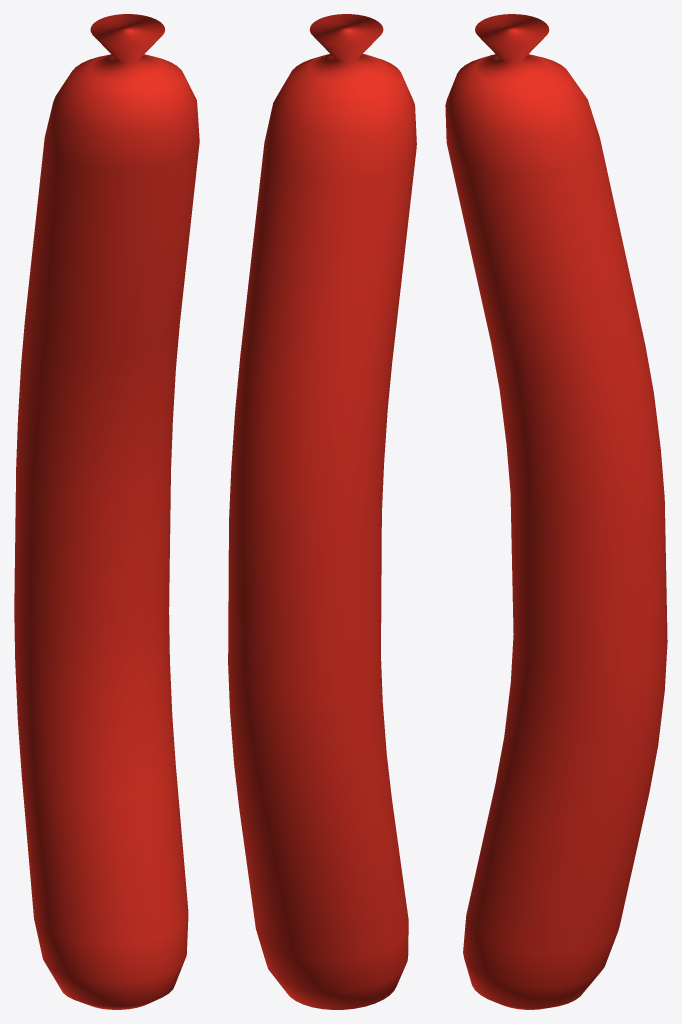
The model's file is _eperoni.fbx.
3 views of the same model, side by side, from view 1: azimuth 30°, elevation 25°; view 2: azimuth 150°, elevation 25°; view 3: azimuth 270°, elevation 25° (orthographic).
Visible parts, largest first — view 1: Cylinder; view 2: Cylinder; view 3: Cylinder.
Part boxes in pixels (left/top/right/bottom): Cylinder: left=14, top=14, right=199, bottom=1009; Cylinder: left=228, top=14, right=416, bottom=1009; Cylinder: left=445, top=14, right=667, bottom=1009.
Size of the model in its own units: 29.61 by 197 by 41.09.
